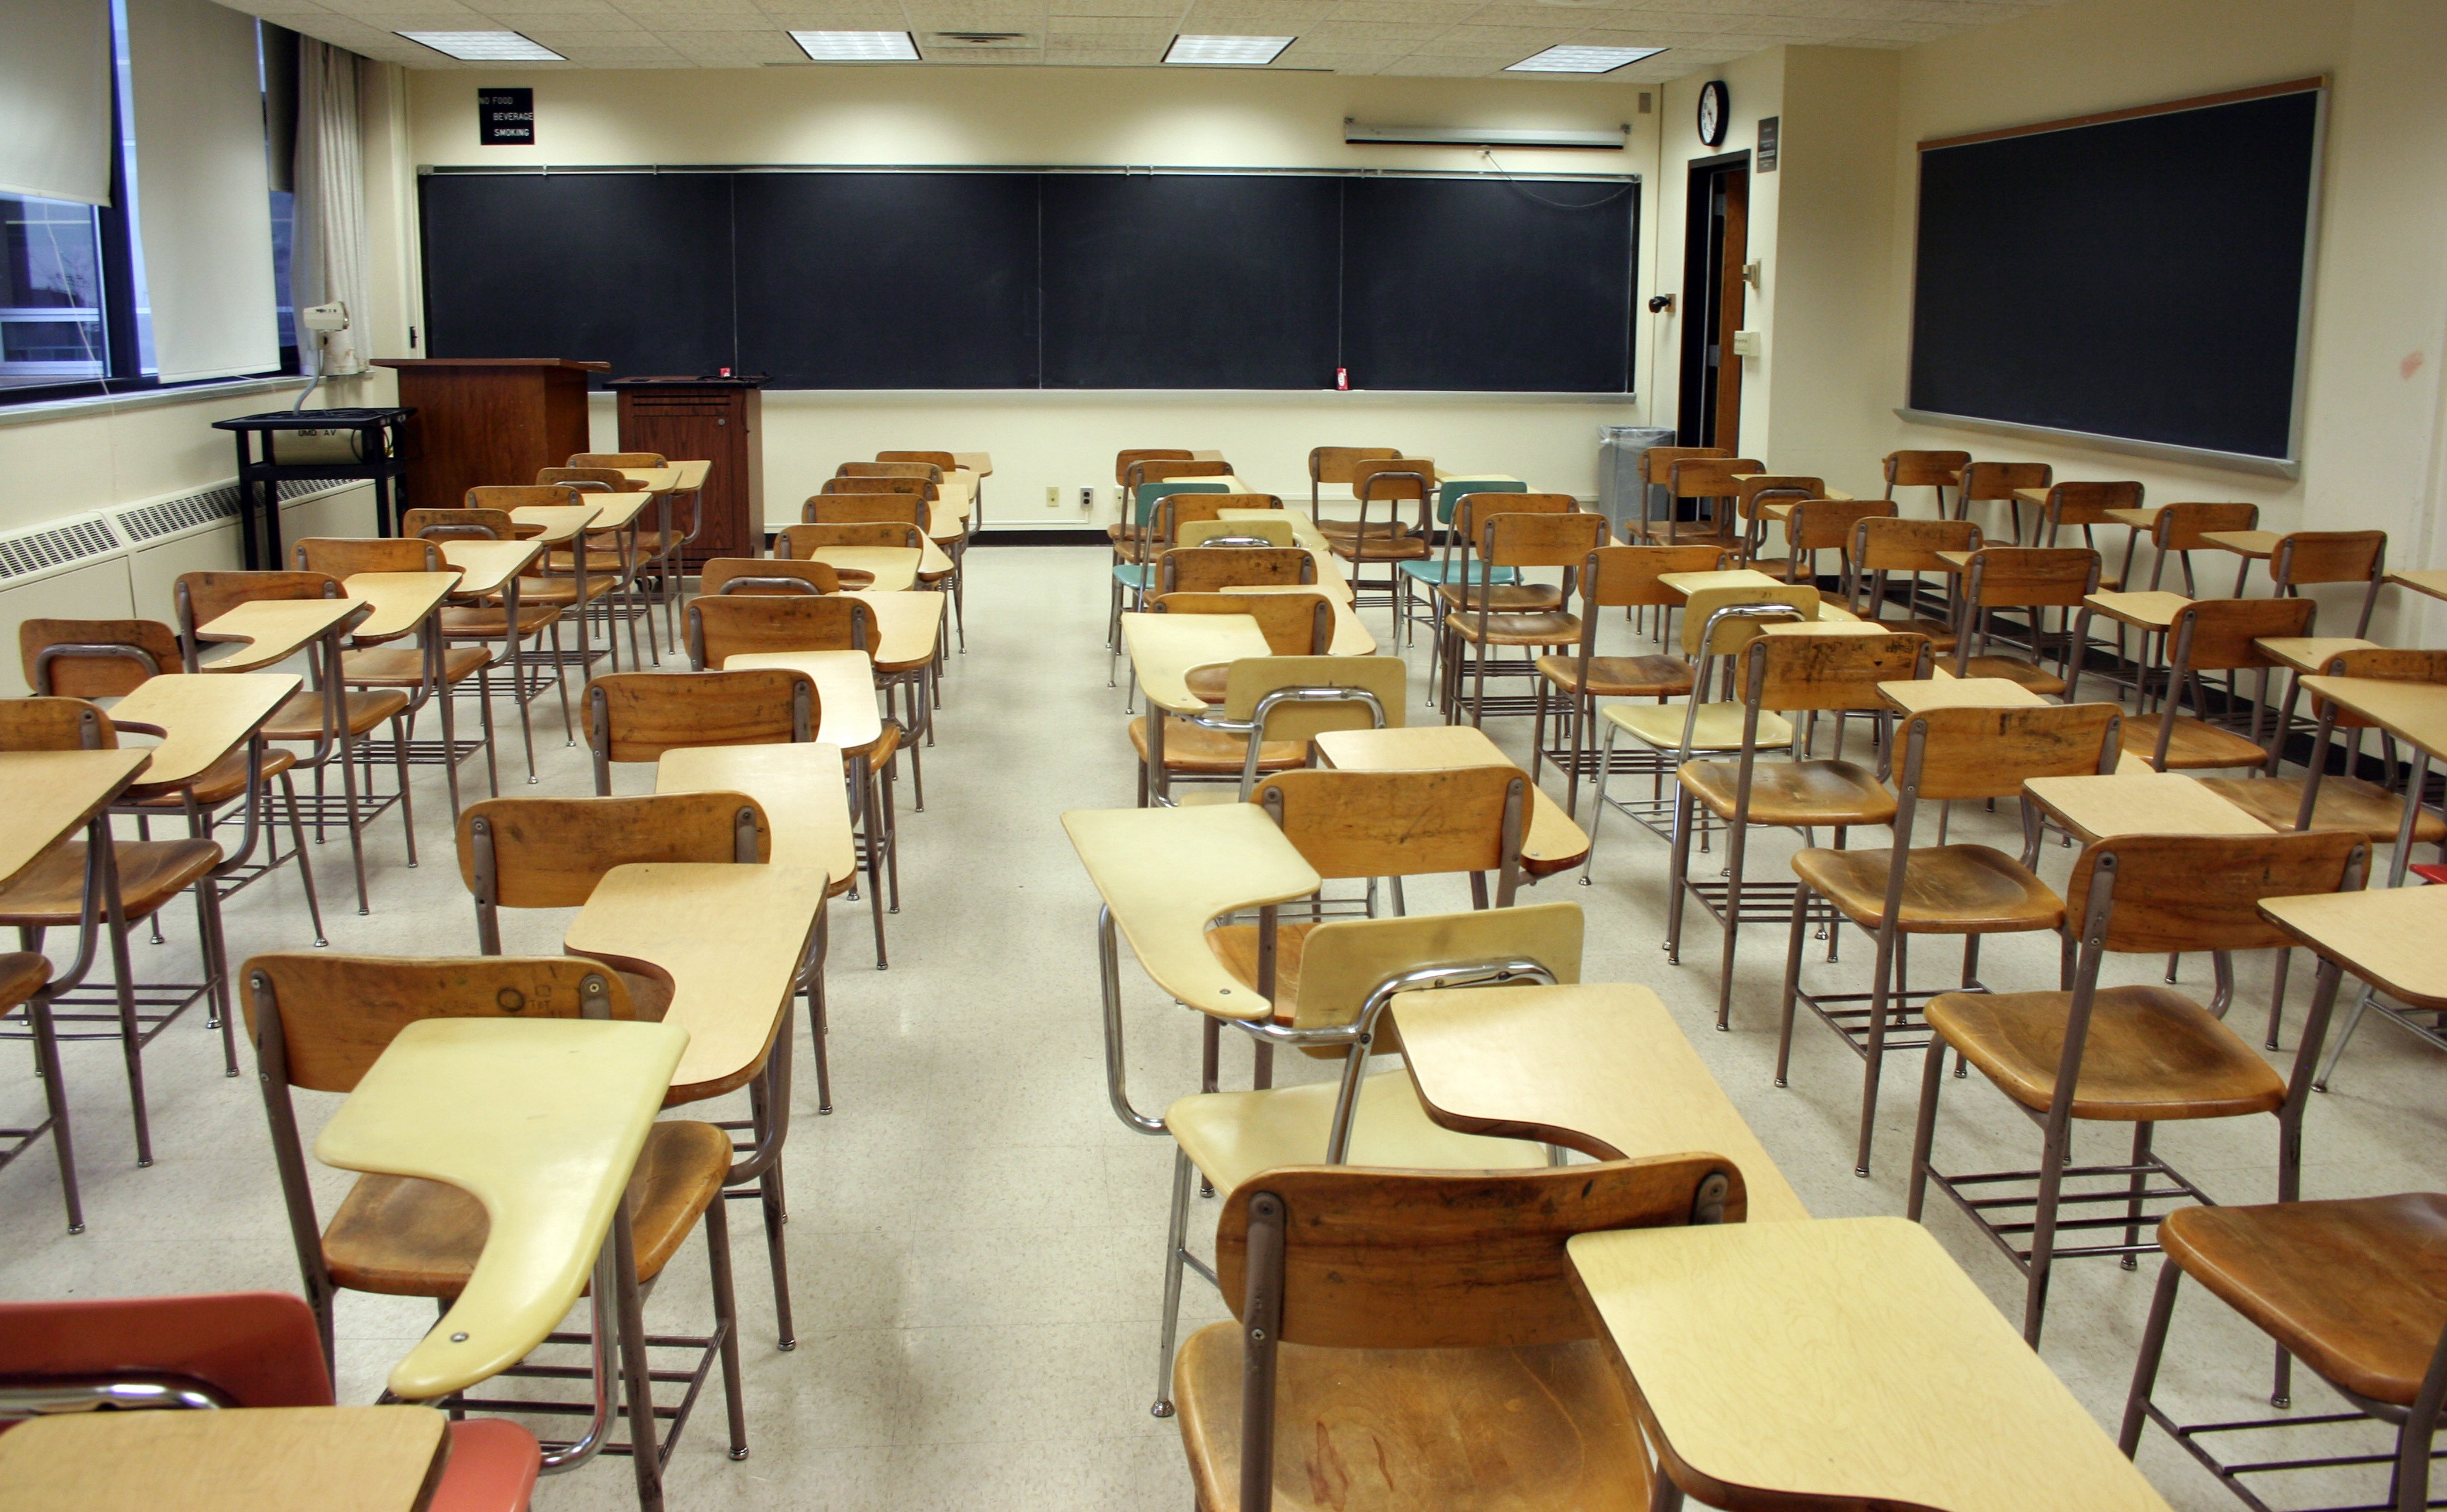desk_067.jpg: (1178, 967, 1806, 1274), (292, 982, 696, 1402), (524, 843, 832, 1016)
